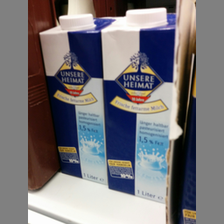milk: (102, 7, 168, 204), (37, 13, 110, 187)
